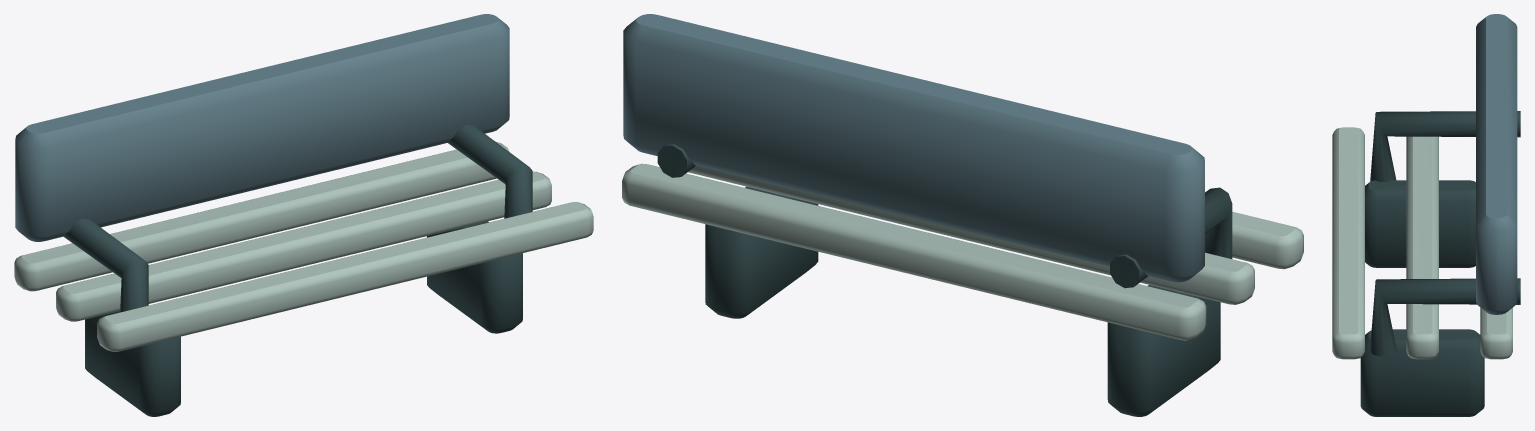
Rendered from bench_1.glb.
The picture shows the model from 3 angles, left to right: view 1: azimuth 30°, elevation 25°; view 2: azimuth 150°, elevation 25°; view 3: azimuth 270°, elevation 25°; orthographic projection. The views are drawn at different scales.
Visible parts, largest first — view 1: Bench; view 2: Bench; view 3: Bench.
Boxes of the visible parts, left/top/right/bottom form: Bench: left=14, top=14, right=593, bottom=416; Bench: left=622, top=14, right=1303, bottom=416; Bench: left=1332, top=14, right=1520, bottom=416.
Bounding box in the file's own units: 2.31 × 1.12 × 0.865.
